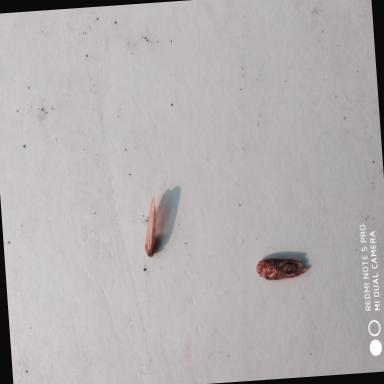pbw: (253, 250, 309, 282), (138, 194, 162, 260)
